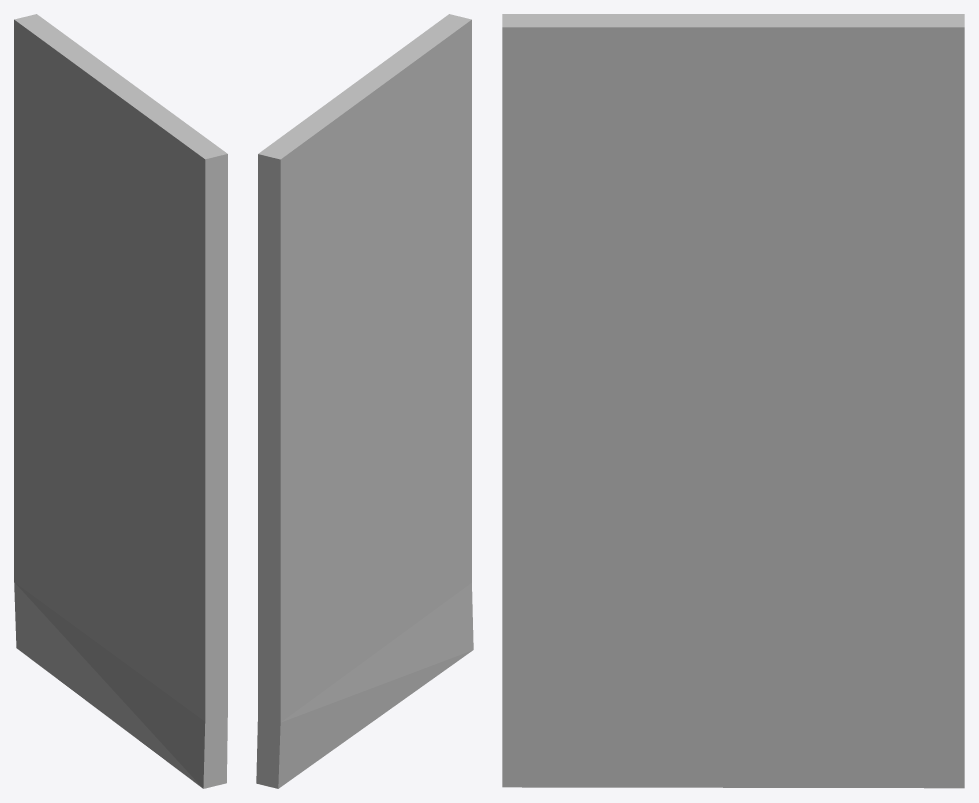
The model's file is Door.glb.
3 views of the same model, side by side, from view 1: azimuth 30°, elevation 25°; view 2: azimuth 150°, elevation 25°; view 3: azimuth 270°, elevation 25° (orthographic). The views are drawn at different scales.
Parts seen in each view (by area): view 1: Door; view 2: Door; view 3: Door.
Part boxes in pixels (x1,y1,x2,y2): Door: (14,14,227,788); Door: (256,14,473,788); Door: (502,14,964,788).
Bounding box in the file's own units: 0.115 × 2.66 × 1.46.
Materials: 1 (1 with a texture image).
